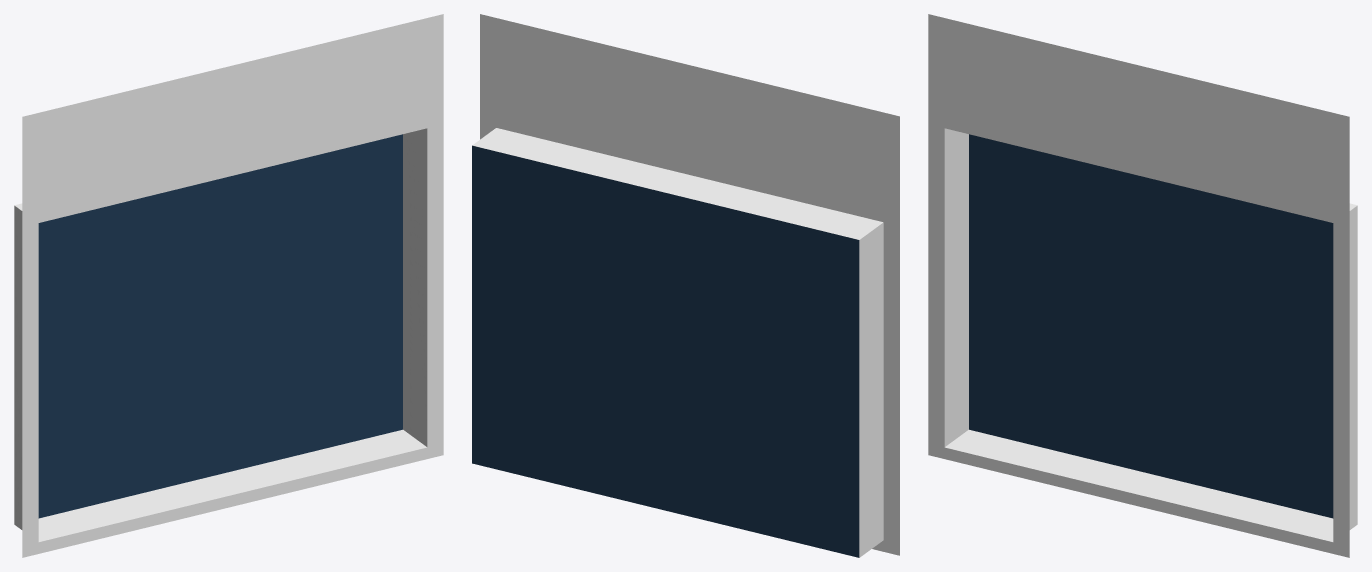
3 views of the same model, side by side, from view 1: azimuth 30°, elevation 25°; view 2: azimuth 150°, elevation 25°; view 3: azimuth 330°, elevation 25° (orthographic).
Parts seen in each view (by area): view 1: M_Wall.003; view 2: M_Wall.003; view 3: M_Wall.003.
Part boxes in pixels (left/top/right/bottom): M_Wall.003: left=14, top=14, right=443, bottom=557; M_Wall.003: left=472, top=14, right=899, bottom=557; M_Wall.003: left=928, top=14, right=1357, bottom=557.
Bounding box in the file's own units: 1 × 1 × 0.1.
